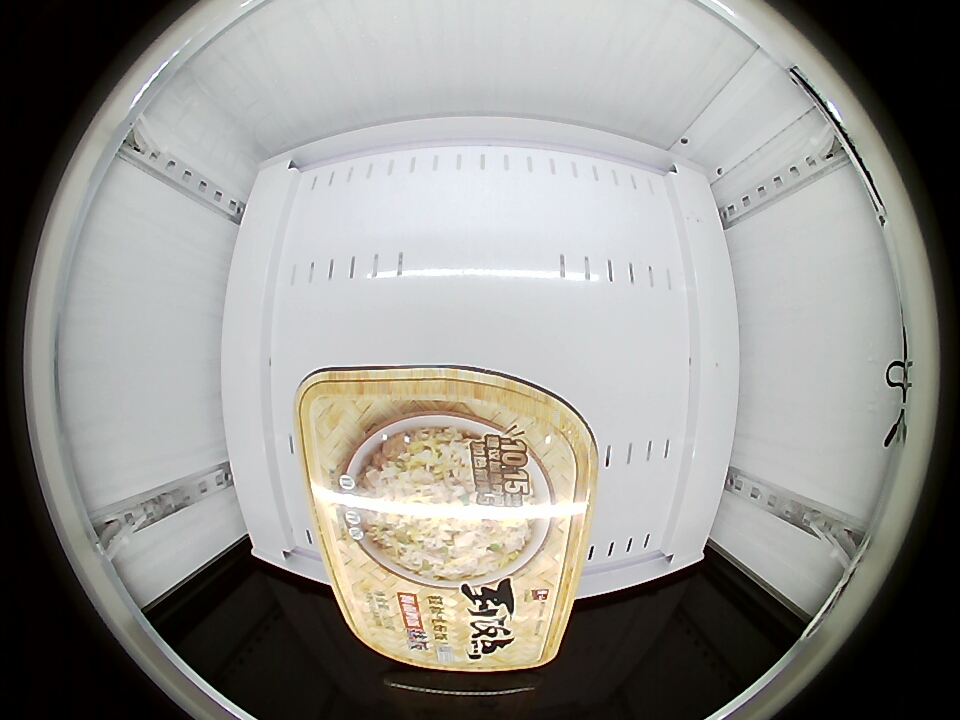daofandian1: (300, 364, 597, 671)
